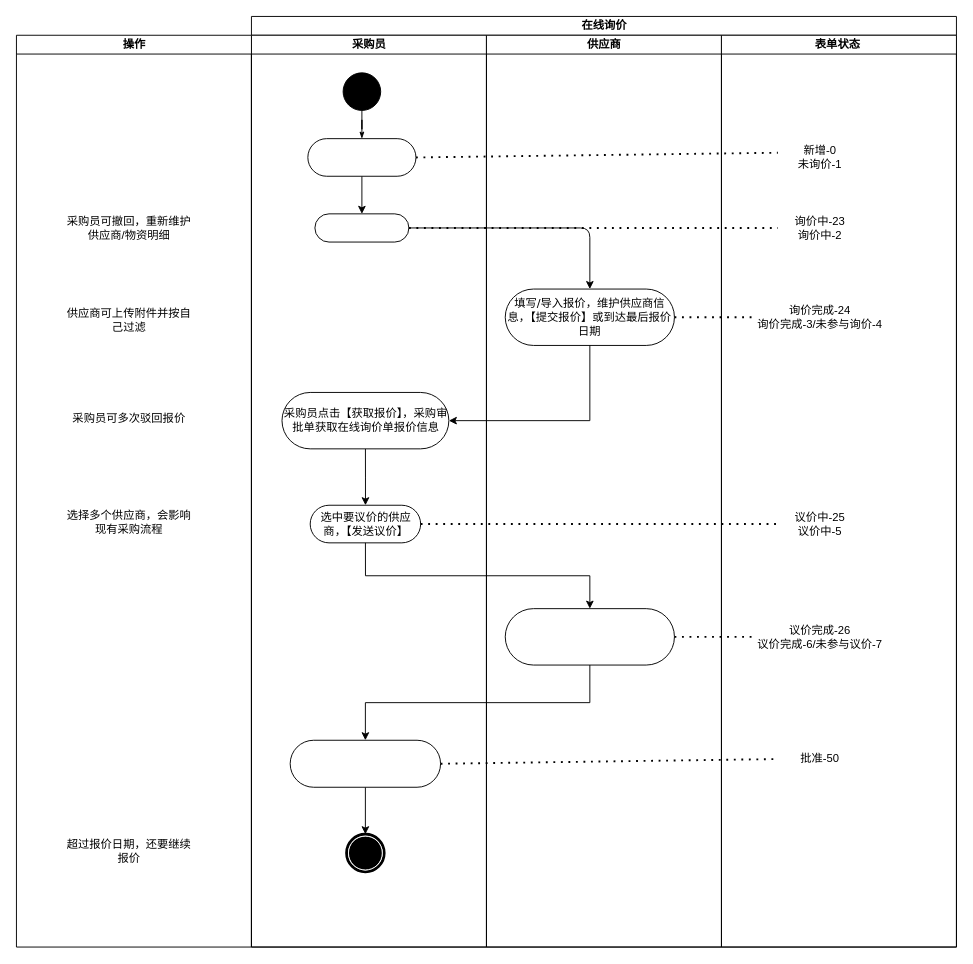
This 973x964 diagram has some shape labels left out. The shapes that lost their labels are listed below. From the top down, each one's box as (x1, y1, x2, y2) in pixels, then its label:
(307, 138, 416, 176): 基础信息维护，物资，供应商
(314, 213, 409, 242): 【在线询价】
(504, 608, 674, 665): 填写/导入议价，维护供应商信息，【提交议价】或到达最后报价日期
(289, 739, 441, 787): 采购员点击【开标】，获取议价信息，使在线询价单解锁
